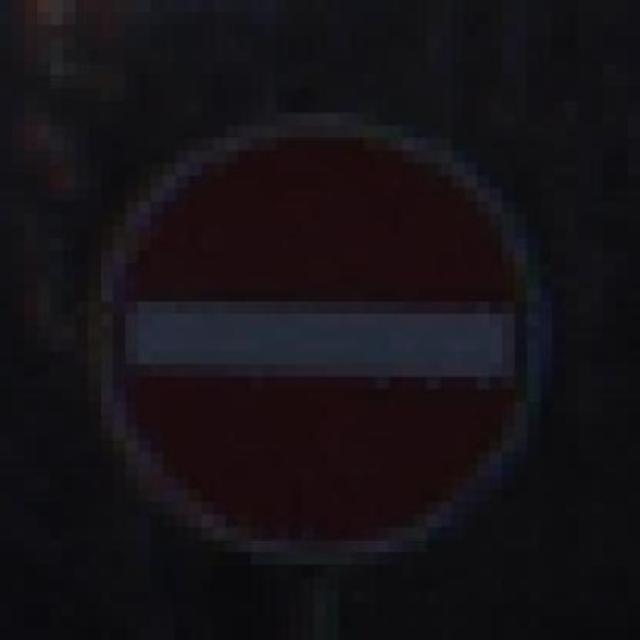No Entry: (58, 92, 585, 570)
